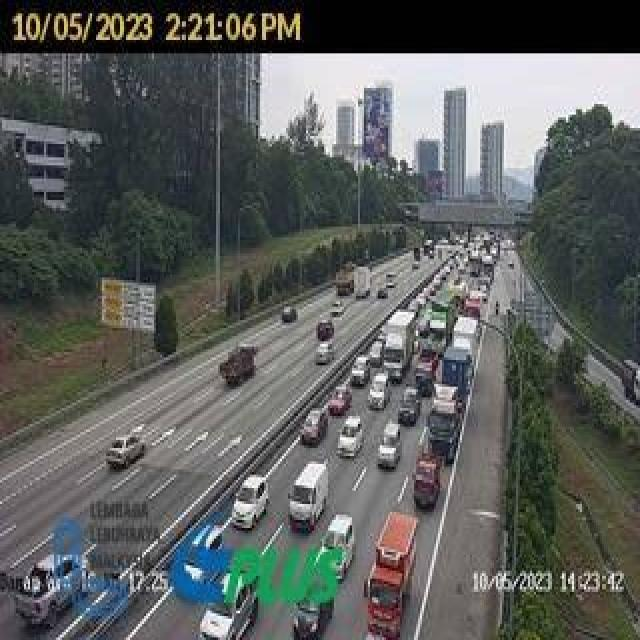Car: (200, 570, 259, 640), (182, 522, 232, 590), (318, 513, 356, 579), (230, 475, 271, 530), (293, 590, 334, 639), (412, 448, 445, 508), (106, 432, 145, 470), (337, 415, 365, 457), (377, 422, 402, 467), (301, 408, 329, 446), (366, 373, 389, 409), (398, 387, 420, 424), (328, 387, 352, 416), (350, 356, 372, 386), (367, 340, 385, 369), (315, 342, 334, 366), (317, 319, 334, 342), (417, 315, 431, 336), (281, 306, 297, 323), (331, 299, 344, 317), (385, 271, 397, 288), (378, 286, 388, 299)
Truck: (364, 510, 420, 637), (10, 551, 90, 629), (424, 385, 462, 466), (382, 309, 416, 383), (218, 345, 260, 388), (414, 349, 440, 398)
Van: (289, 459, 329, 530)
